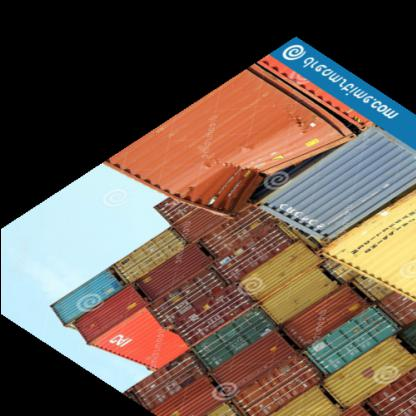Damage: (212, 151, 278, 211)
